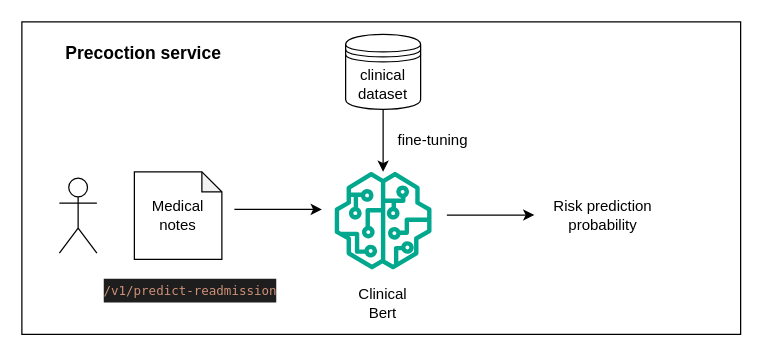
The diagram is 763 pixels wide and 356 high, and some of its shapes have lost their labels. The shapes that lost their labels are listed below. From the top down, each one's centre as x and y in pixels, then its label:
At pixel 77 215: "Actor".
At pixel 382 220: "Text".
